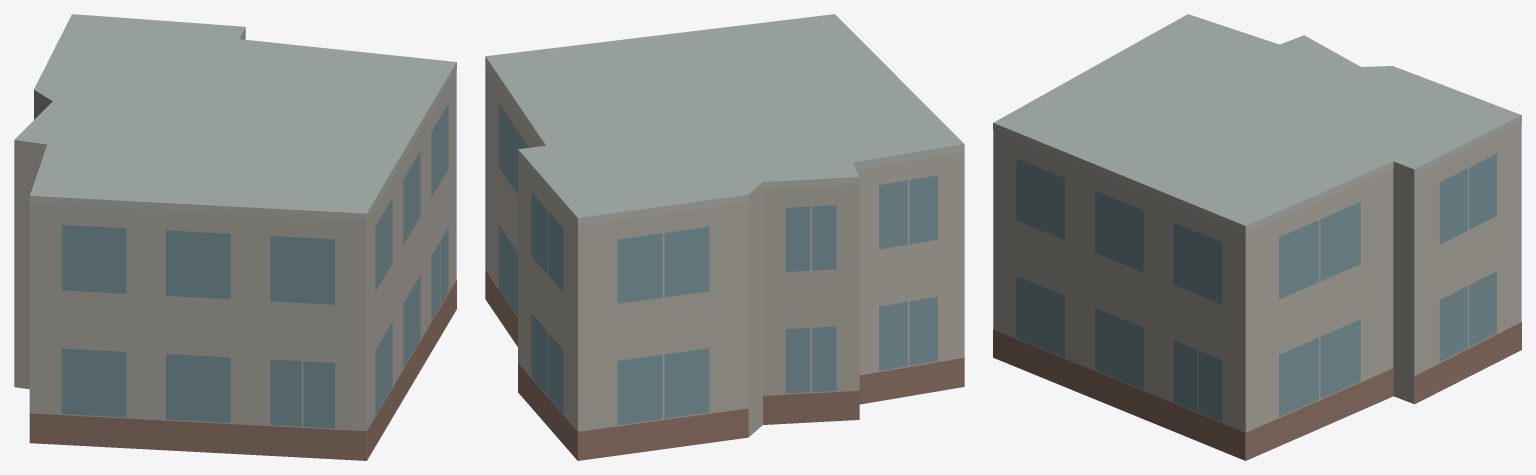
The model's file is survey-upis-32855457.glb.
3 renders of one model, left to right at view 1: azimuth 30°, elevation 25°; view 2: azimuth 150°, elevation 25°; view 3: azimuth 270°, elevation 25°, orthographic. The views are drawn at different scales.
Parts seen in each view (by area): view 1: survey-upis-32855457.tmp; view 2: survey-upis-32855457.tmp; view 3: survey-upis-32855457.tmp.
Part boxes in pixels (x1=…): survey-upis-32855457.tmp: x1=14, y1=14, x2=456, y2=460; survey-upis-32855457.tmp: x1=485, y1=14, x2=964, y2=460; survey-upis-32855457.tmp: x1=993, y1=14, x2=1521, y2=460.
Bounding box in the file's own units: 15.21 × 7.85 × 16.02.
